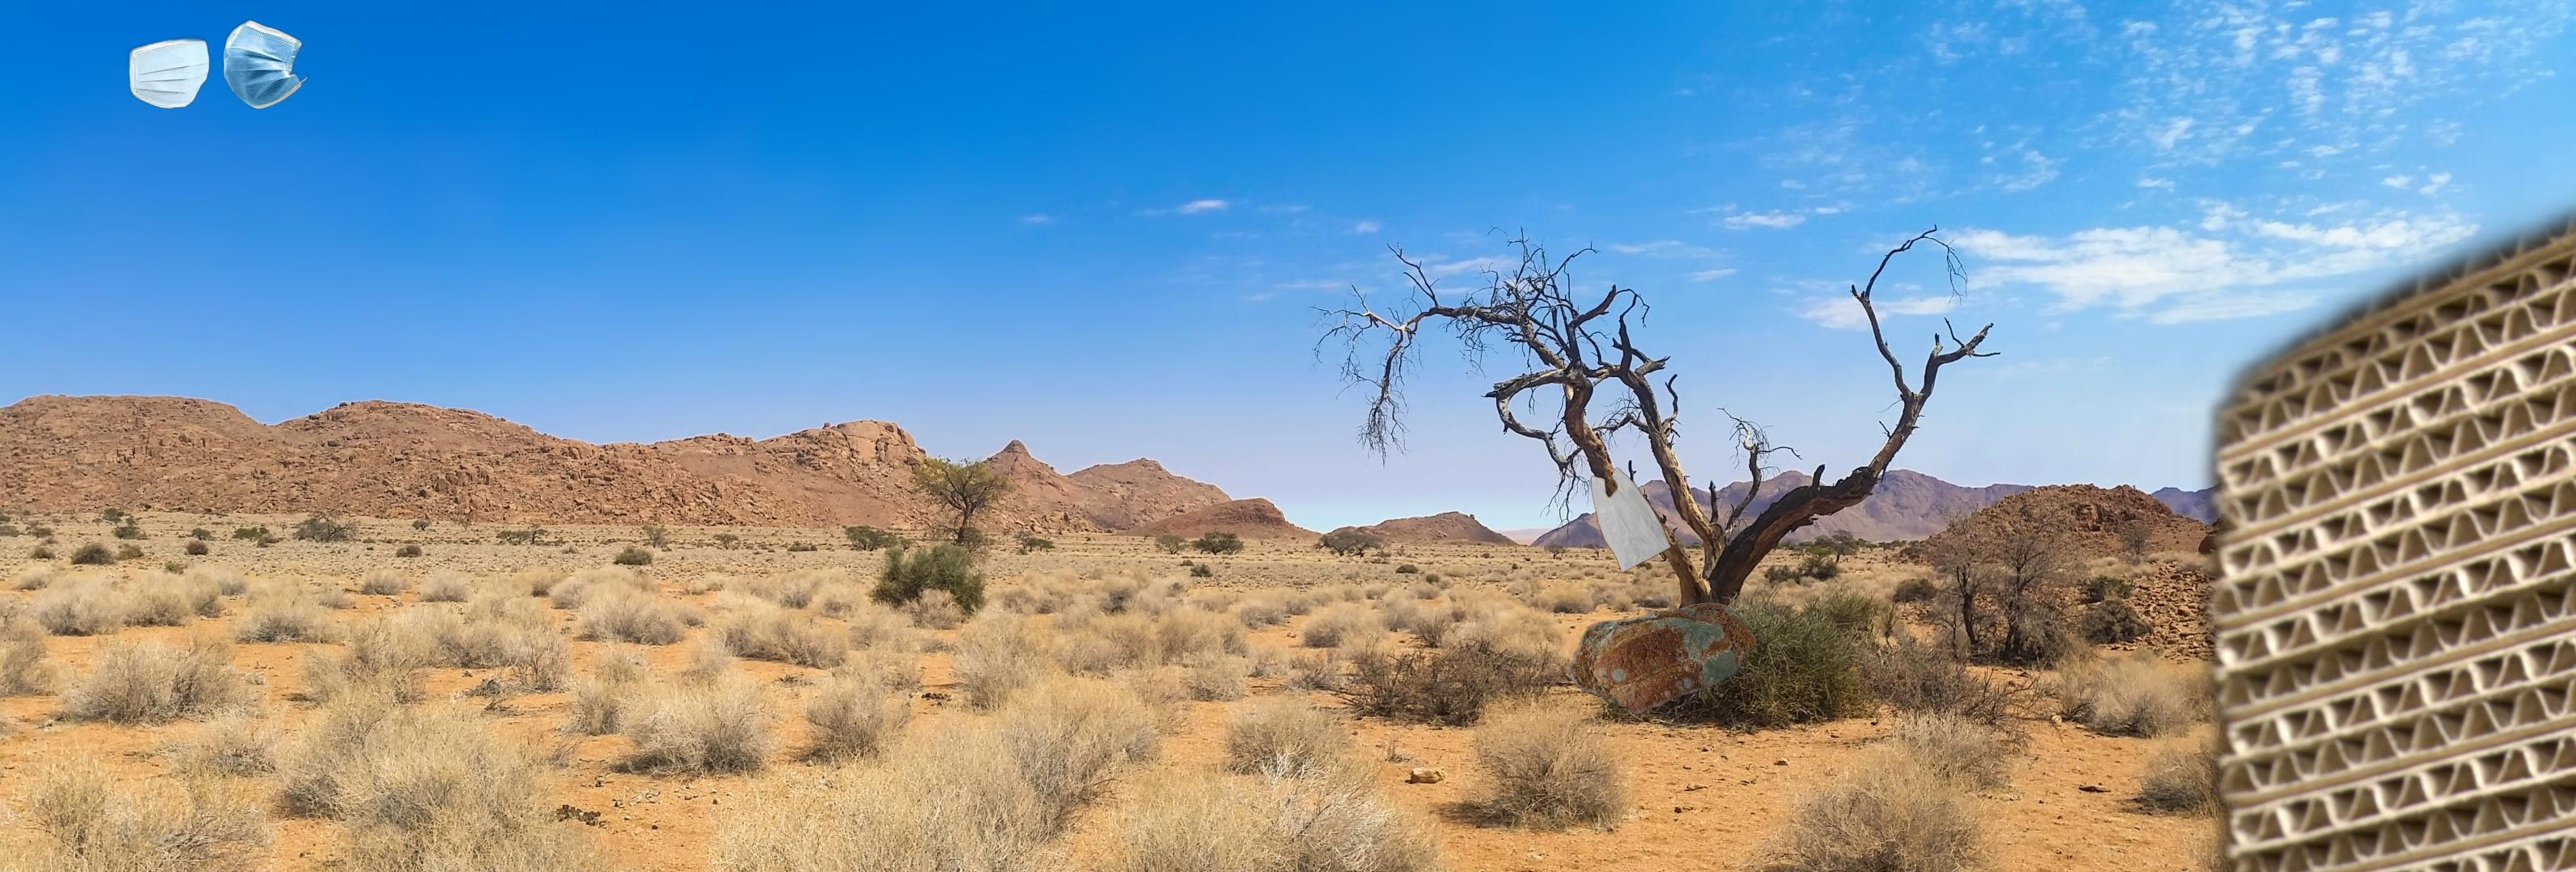biological: (1557, 585, 1769, 719)
plastic-bag: (1589, 455, 1791, 698)
shoes: (2280, 624, 2471, 726)
trash: (125, 18, 311, 112)
trashbox-cardboard: (2172, 161, 2576, 872)
